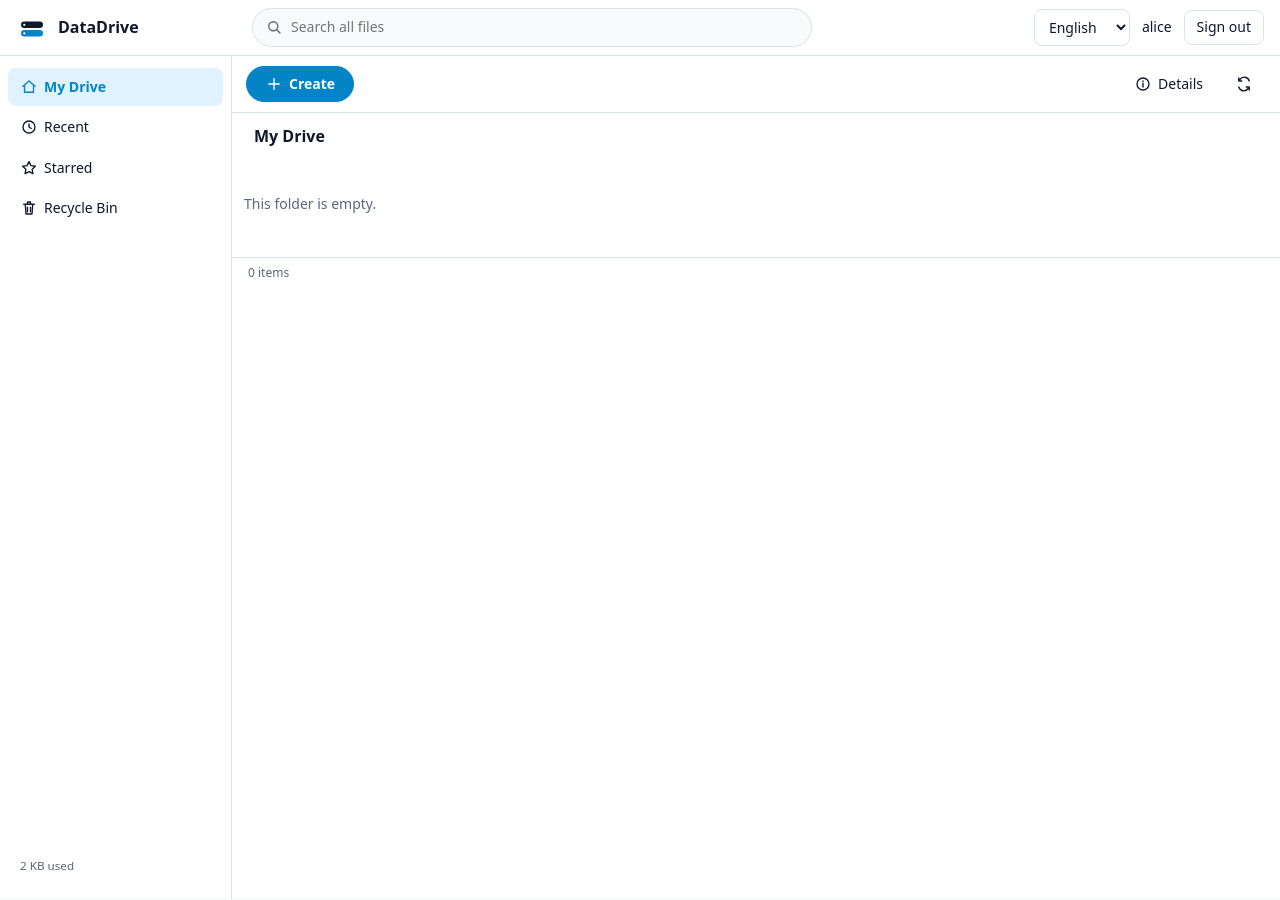
Scenario: sign in › switches between English and German and remembers the choice
Step 1. Select "Deutsch" in the dropdown named "Language" → (1082, 28), box [1034, 9, 1130, 46]
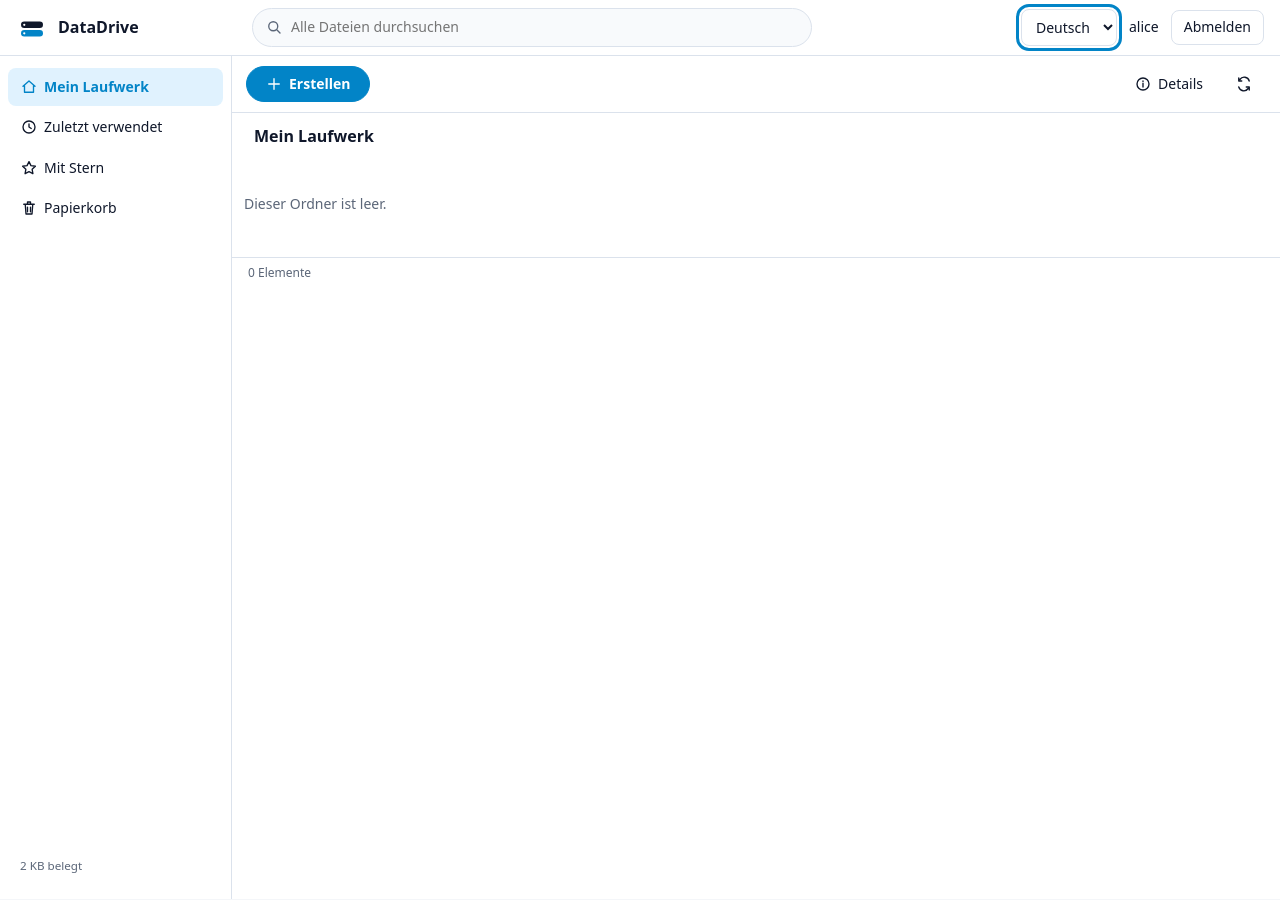
Expected: the button "Abmelden" is shown, [1171, 10, 1264, 45]
Expected: the navigation bar named "Kategorien" is shown, [0, 56, 232, 899]
Expected: the 1st button "Mein Laufwerk" is shown, [8, 68, 223, 106]
